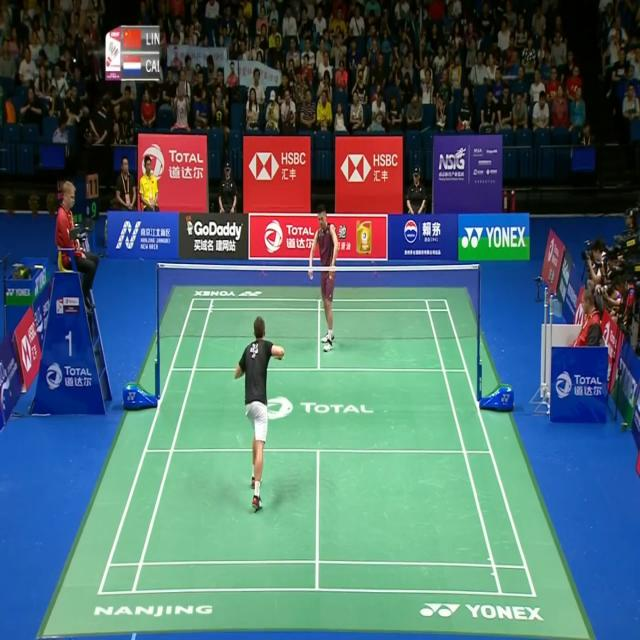Player1: (232, 306, 288, 521)
Player2: (304, 202, 340, 354)
